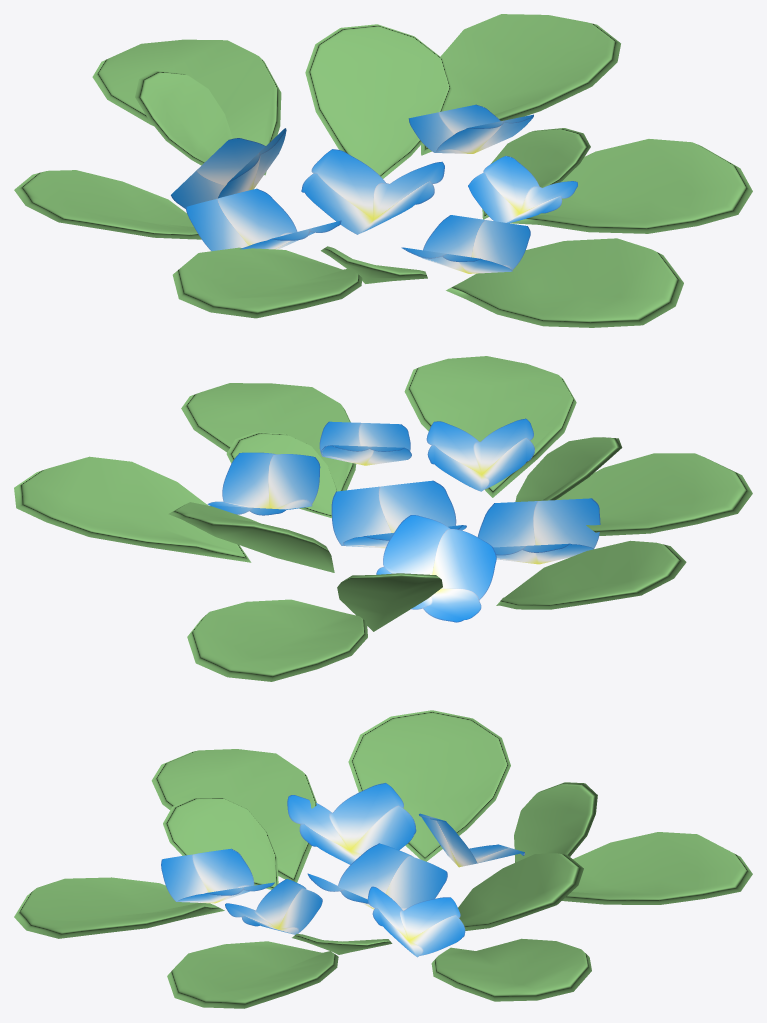
File: flower_ooinu.fbx
3 views of the same model, one above another, from view 1: azimuth 30°, elevation 25°; view 2: azimuth 150°, elevation 25°; view 3: azimuth 270°, elevation 25° (orthographic). The views are drawn at different scales.
Parts seen in each view (by area): view 1: flower_ooinu_full; view 2: flower_ooinu_full; view 3: flower_ooinu_full.
Part boxes in pixels (x1=…): flower_ooinu_full: x1=14, y1=14, x2=752, y2=327; flower_ooinu_full: x1=14, y1=356, x2=752, y2=681; flower_ooinu_full: x1=14, y1=710, x2=752, y2=1008.
Bounding box in the file's own units: 0.0851 × 0.0137 × 0.0963.
